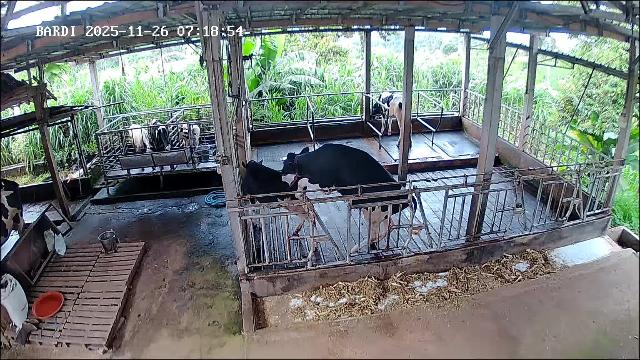mounting: (280, 143, 416, 255)
